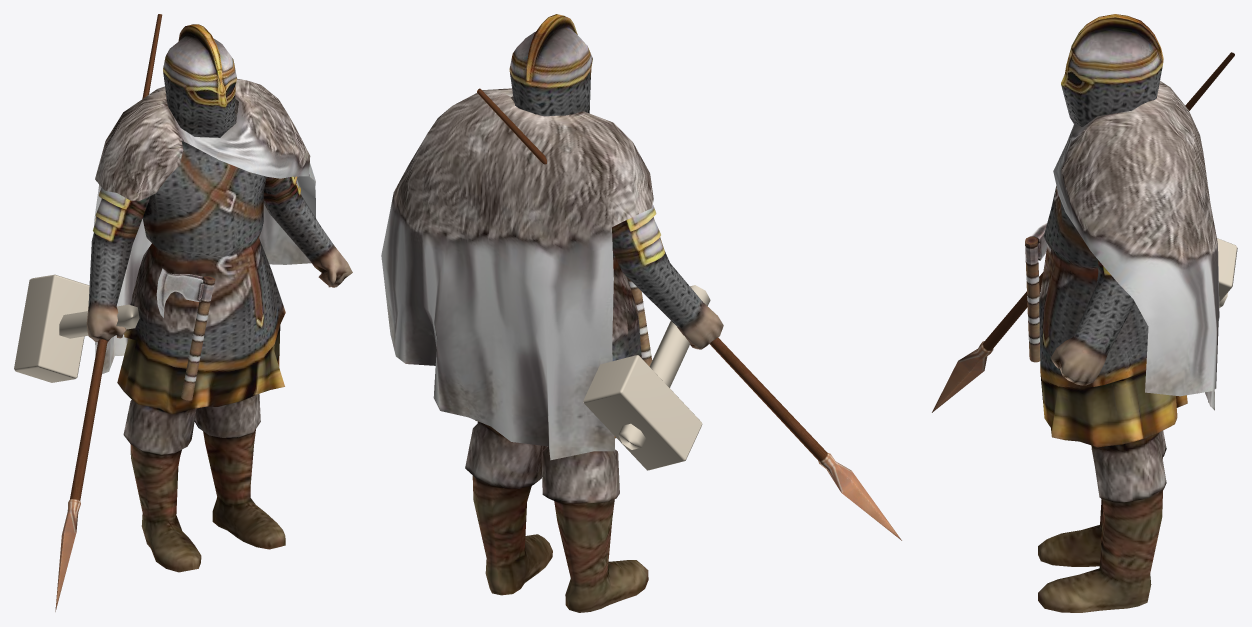
File: 85-godi.glb
3 renders of one model, left to right at view 1: azimuth 30°, elevation 25°; view 2: azimuth 150°, elevation 25°; view 3: azimuth 270°, elevation 25°, orthographic. The views are drawn at different scales.
Bounding box in the file's own units: 1.65 × 2.25 × 1.1.
Materials: 3 (2 with a texture image).
